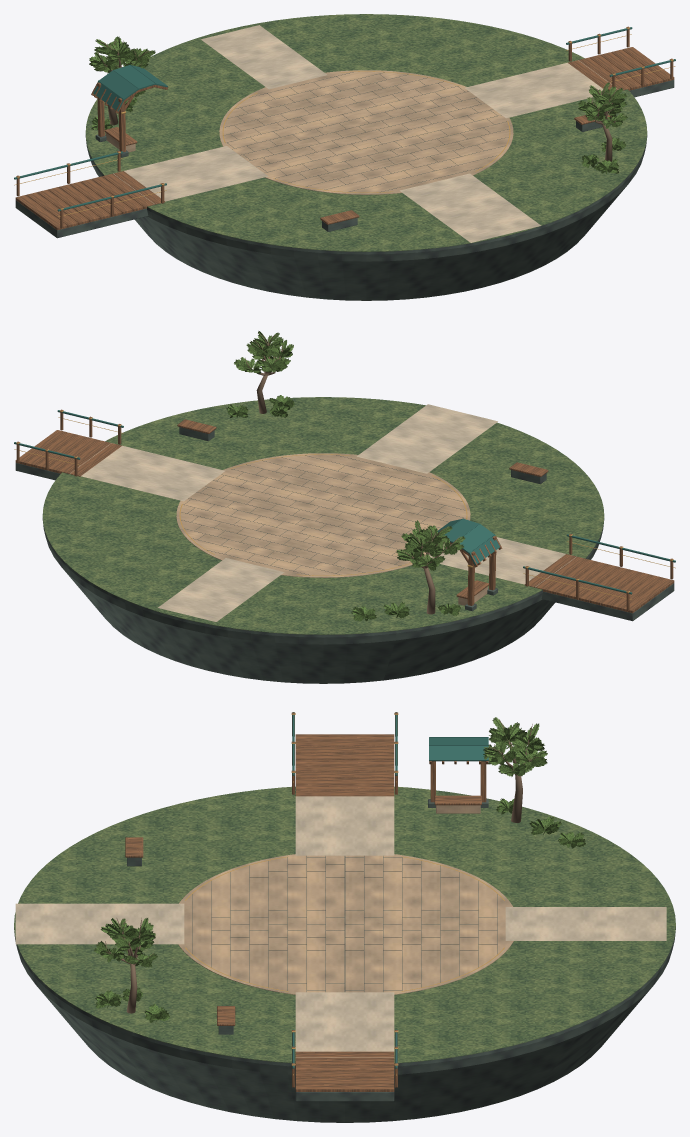
The model's file is compaii-atelier-commons.glb.
The picture shows the model from 3 angles, top to bottom: view 1: azimuth 30°, elevation 25°; view 2: azimuth 150°, elevation 25°; view 3: azimuth 270°, elevation 25°; orthographic projection. The views are drawn at different scales.
Visible parts, largest first — view 1: Holodeck Commons visual mesh; view 2: Holodeck Commons visual mesh; view 3: Holodeck Commons visual mesh.
Part boxes in pixels (<box>): Holodeck Commons visual mesh: <box>14,14,675,300</box>; Holodeck Commons visual mesh: <box>14,331,675,683</box>; Holodeck Commons visual mesh: <box>14,712,675,1122</box>.
Bounding box in the file's own units: 27.3 × 8.85 × 21.5.
10 materials, 6 textured.
